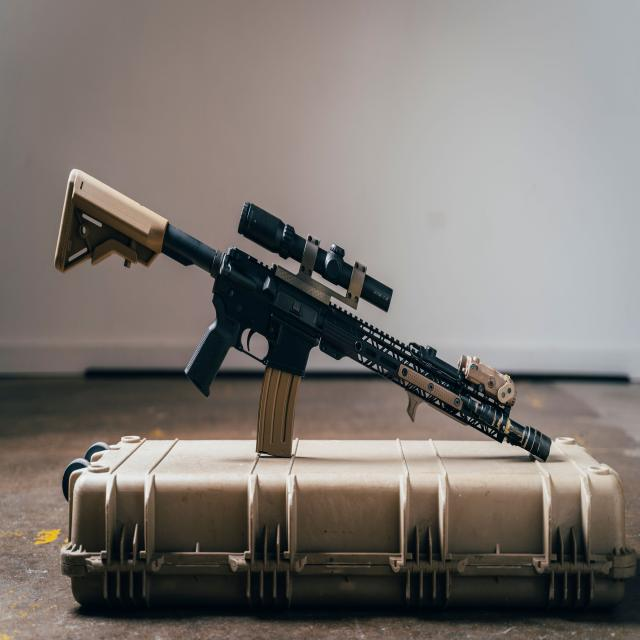Rifle: (55, 173, 554, 463)
